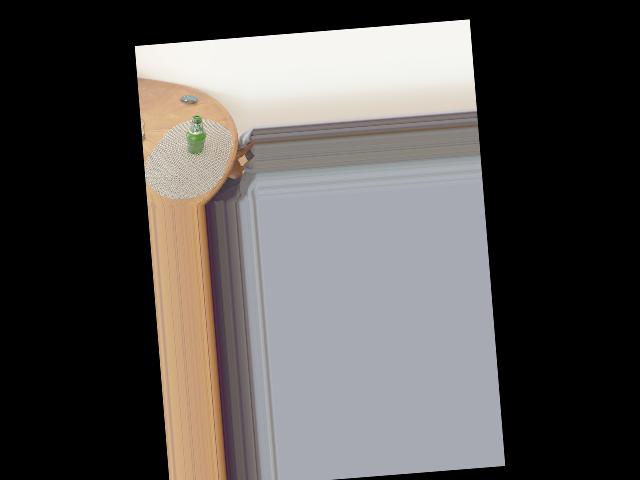beer: (183, 114, 208, 154)
